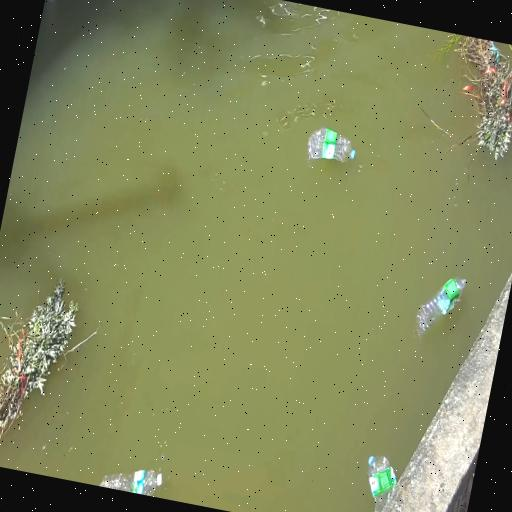plastic: (416, 278, 466, 335), (308, 128, 355, 162), (100, 470, 162, 495), (368, 456, 396, 511), (156, 474, 162, 487), (350, 149, 356, 160)
twig: (0, 279, 78, 440), (456, 36, 512, 159)
